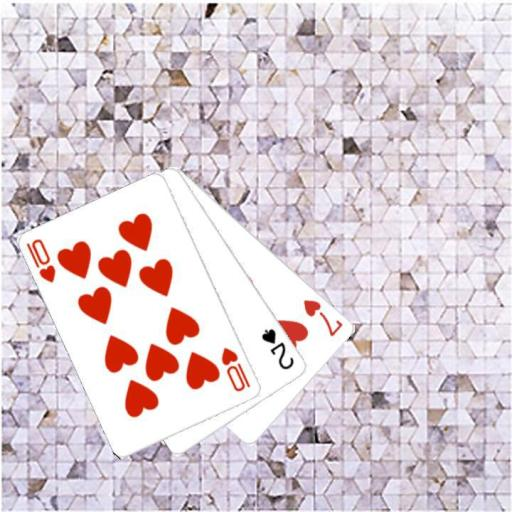10H: (219, 344, 253, 393), (24, 236, 58, 285)
2S: (258, 326, 297, 371)
7H: (300, 296, 345, 338)
